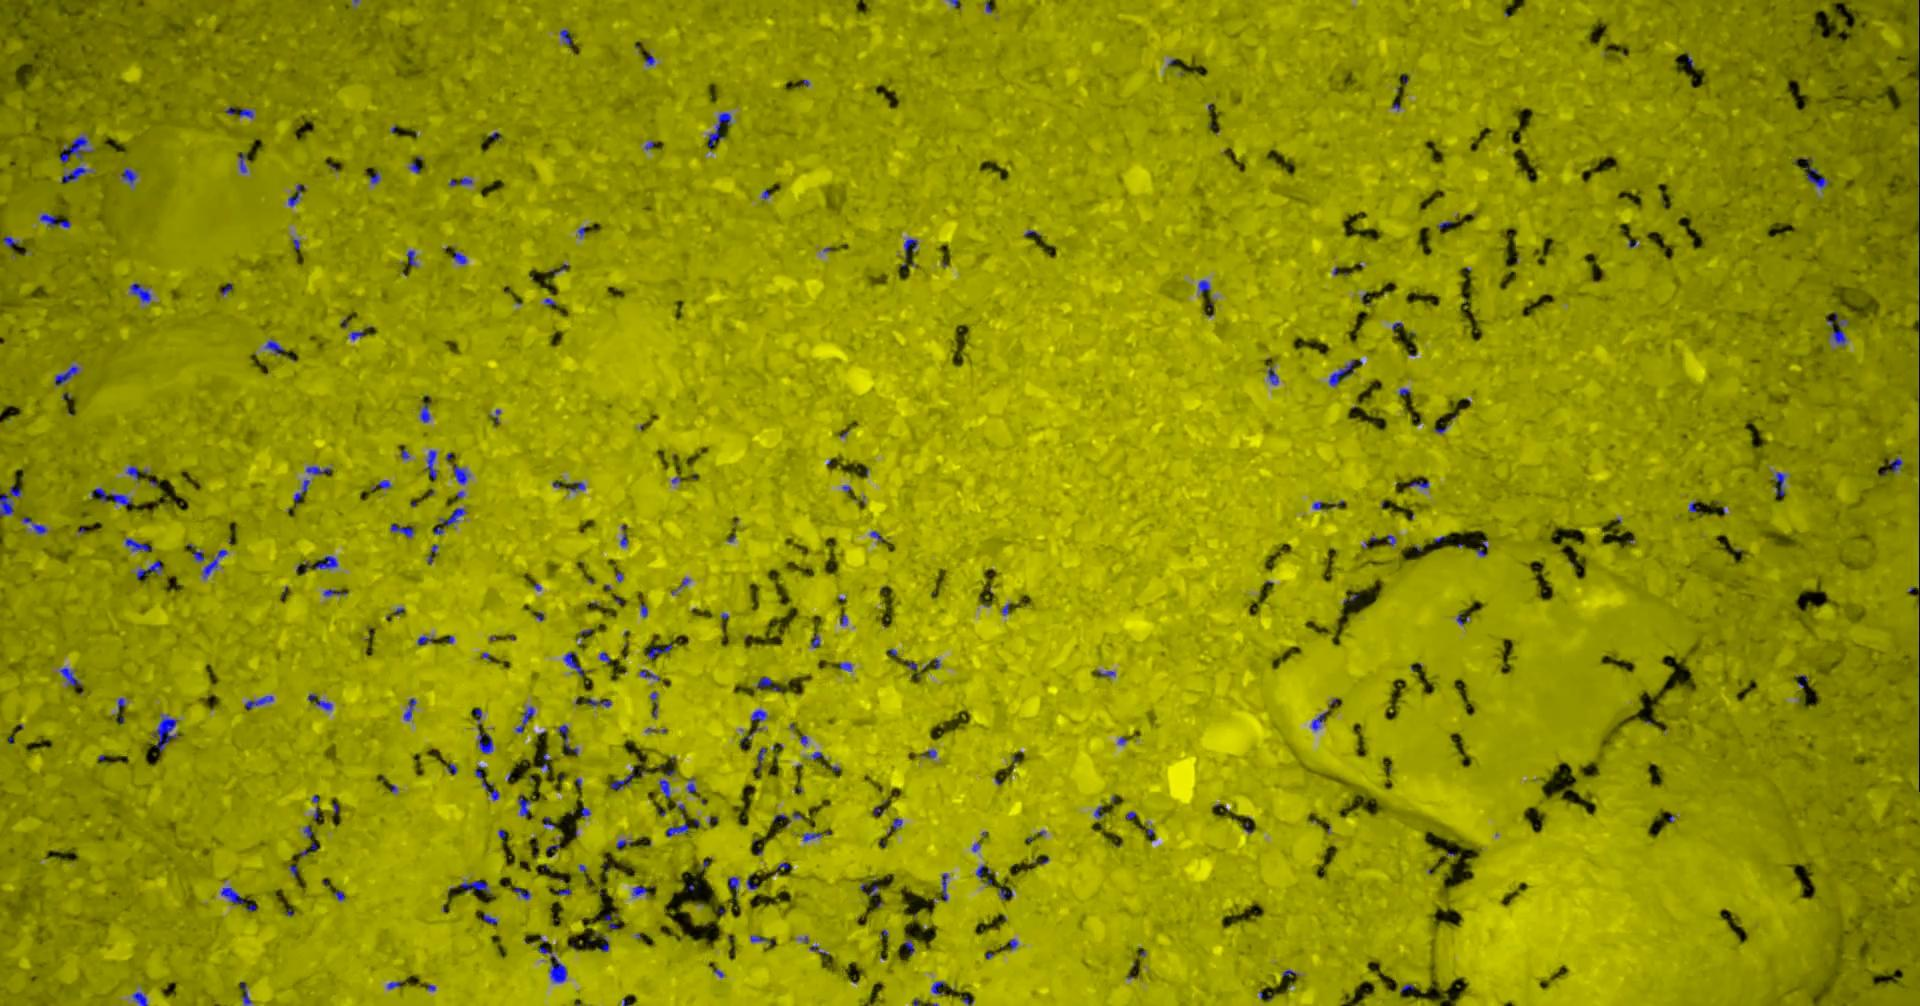ant: (540, 946, 568, 982), (152, 714, 179, 751), (61, 135, 95, 163), (1330, 359, 1364, 386), (476, 765, 502, 800), (436, 507, 469, 533), (709, 112, 733, 146), (476, 708, 494, 753), (93, 486, 133, 506), (1804, 160, 1830, 188), (204, 549, 229, 578), (297, 555, 339, 572), (1829, 312, 1849, 345), (1, 484, 23, 514), (559, 724, 579, 754), (611, 766, 635, 789), (902, 238, 919, 267), (56, 365, 81, 385), (565, 652, 585, 676), (138, 560, 163, 579), (517, 706, 535, 732), (41, 213, 72, 227), (295, 479, 311, 506), (63, 166, 91, 182), (425, 448, 439, 479), (131, 283, 152, 302), (246, 695, 276, 709), (648, 643, 674, 658), (222, 887, 245, 904), (309, 694, 333, 710), (758, 676, 783, 691), (290, 184, 307, 206), (61, 667, 83, 685), (462, 880, 491, 893), (126, 539, 152, 551), (392, 523, 417, 537), (804, 829, 832, 841), (455, 465, 471, 484), (861, 879, 880, 895), (668, 822, 690, 836), (265, 339, 284, 354), (758, 747, 768, 775), (241, 981, 253, 1005), (405, 697, 417, 720), (124, 166, 138, 184), (521, 794, 532, 815), (1777, 471, 1787, 495), (730, 876, 740, 899), (450, 177, 474, 185), (422, 398, 430, 422), (307, 465, 331, 474), (1890, 457, 1903, 473), (585, 699, 613, 706), (752, 709, 768, 721), (1313, 713, 1326, 729), (1269, 366, 1280, 384), (135, 991, 149, 1005), (561, 29, 574, 44), (4, 235, 20, 246), (325, 588, 349, 596), (933, 981, 946, 995), (662, 779, 670, 798), (569, 481, 585, 492), (632, 885, 649, 895), (455, 251, 469, 263), (128, 465, 140, 479), (33, 523, 48, 533), (240, 152, 248, 171), (1200, 279, 1211, 292), (943, 873, 949, 901), (241, 108, 255, 117)
